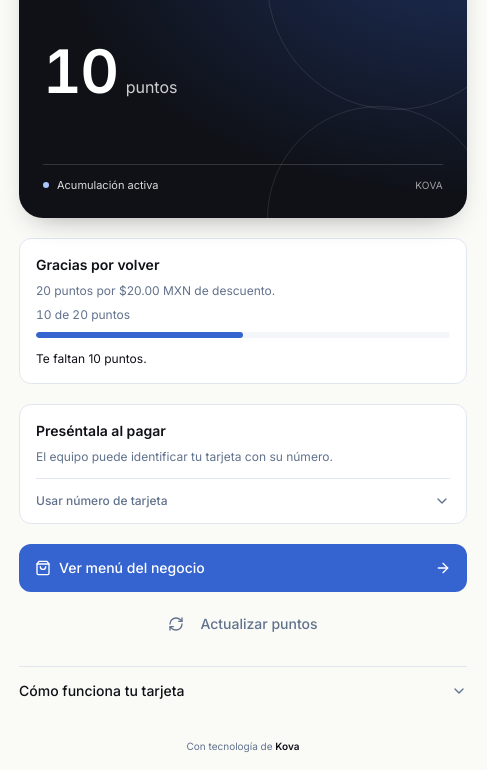
it: explains device-cookie access separately from the expiring shared link
This screenshot has width=487, height=770.
(page scrolled)
Click the heading "Cómo funciona tu tarjeta": (102, 691) [19,682,467,699]
(page scrolled)
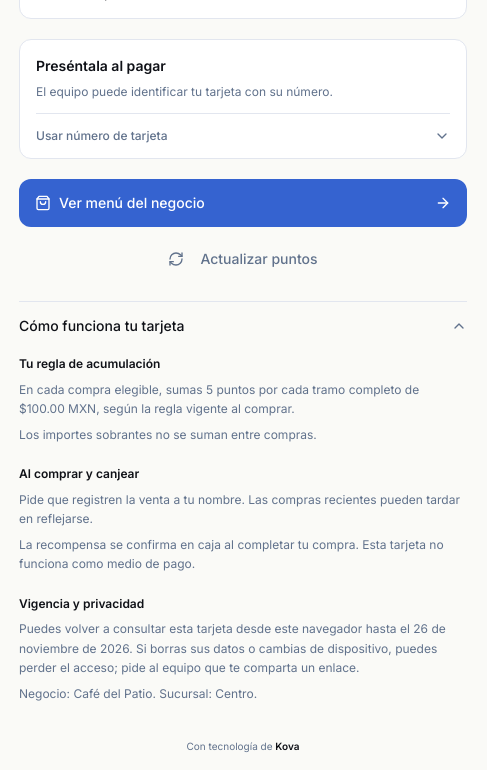
Result: the text "Puedes volver a consultar esta tarjeta desde este navegador hasta" is shown at [19,621,446,675]
